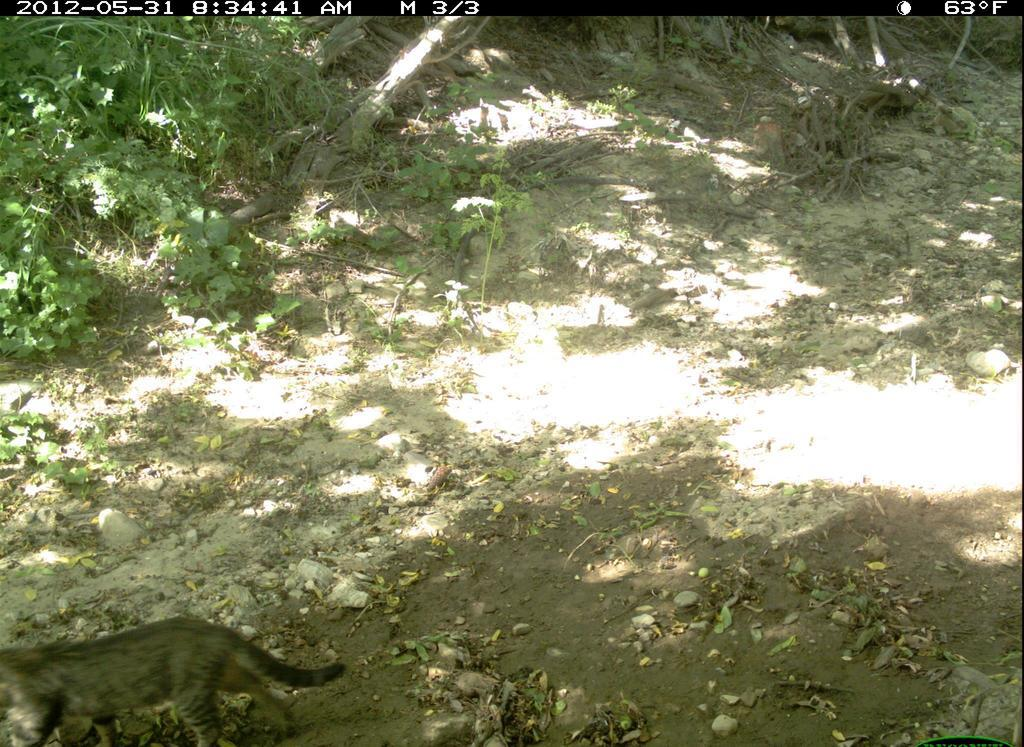cat: (6, 602, 346, 747)
